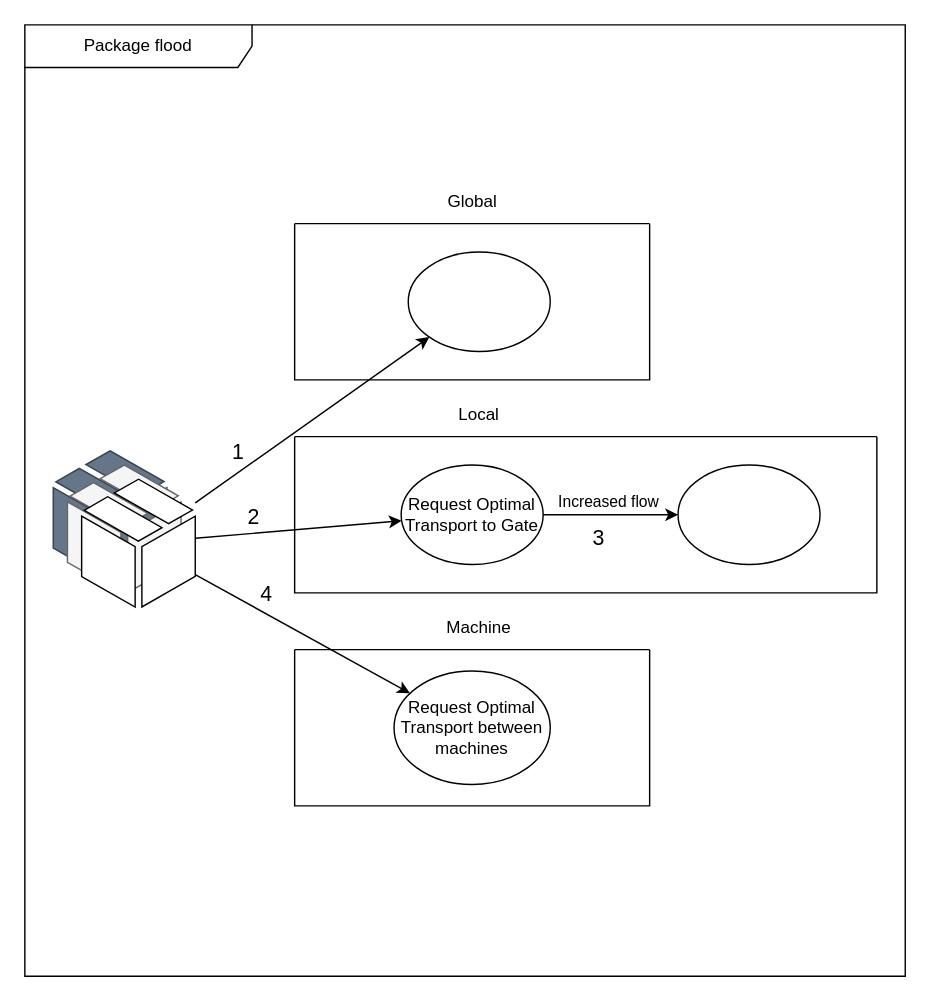
Some shapes in this 930 by 1001 pixel diagram are drawn without their labels. The centre of each missing label's shape, as x and y in pixels:
"Add Local Paths" belongs at [748,514].
"Request Optimal Route" belongs at [478,301].
